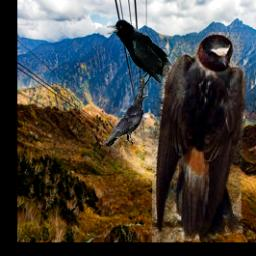Crow: (108, 20, 182, 97), (104, 93, 148, 148)
Swallow: (153, 32, 246, 242)
